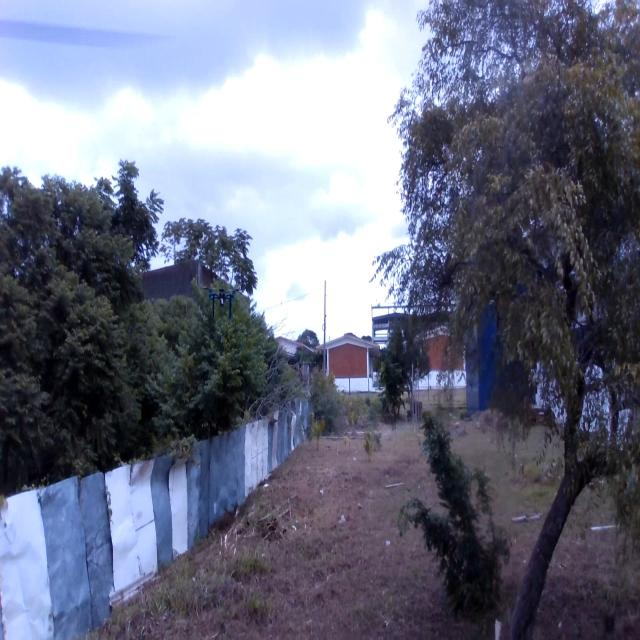-uav-: (207, 278, 240, 329)
